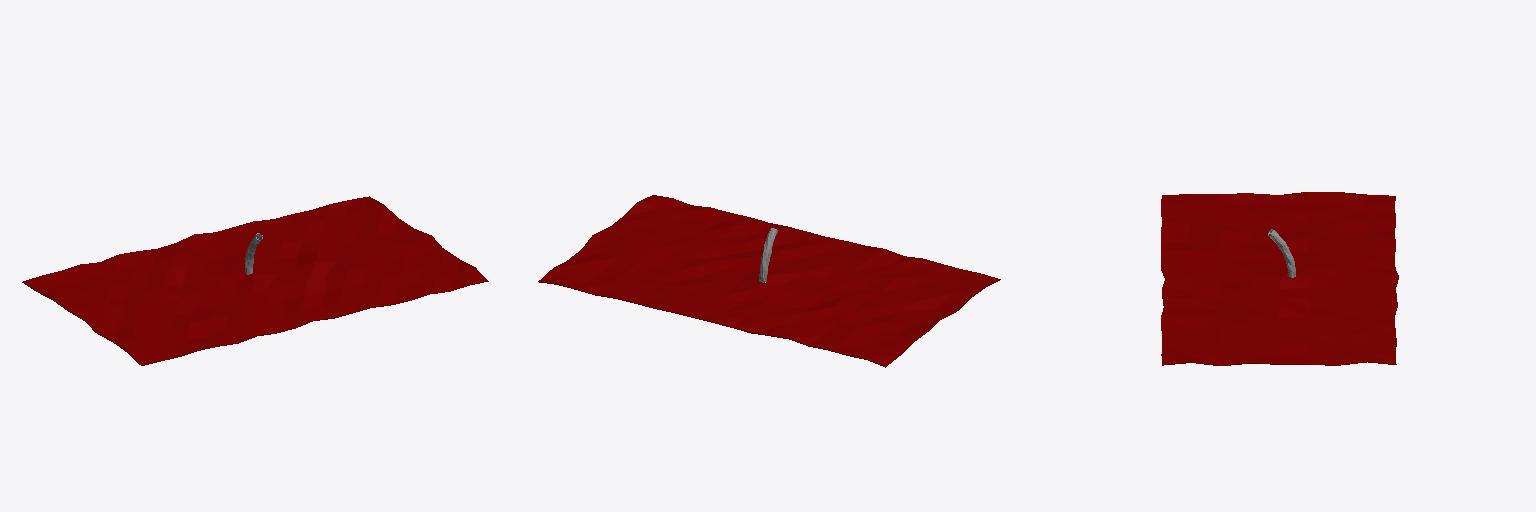
The model's file is tunnel_earth.obj.
3 renders of one model, left to right at view 1: azimuth 30°, elevation 25°; view 2: azimuth 150°, elevation 25°; view 3: azimuth 270°, elevation 25°, orthographic.
Parts seen in each view (by area): view 1: Plane001; view 2: Plane001; view 3: Plane001.
Part boxes in pixels (bbox=[...]): Plane001: bbox=[22, 196, 488, 365]; Plane001: bbox=[538, 195, 1000, 367]; Plane001: bbox=[1161, 192, 1398, 365].
Bounding box in the file's own units: 5915 × 842 × 3479.